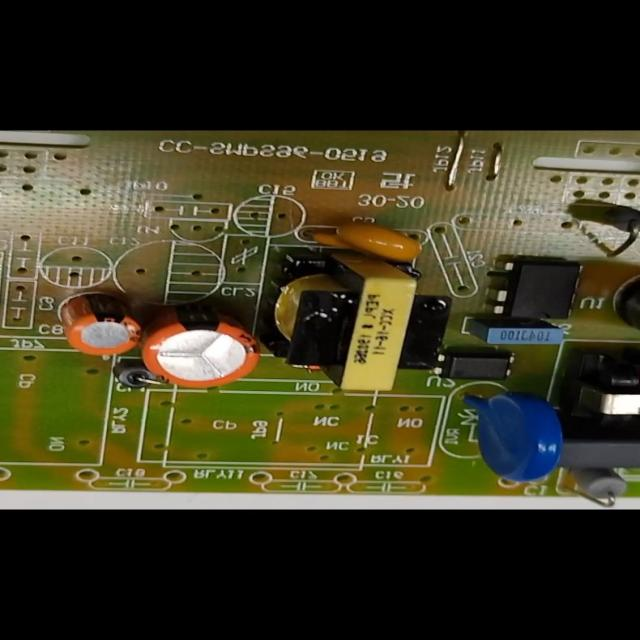Cap1: (143, 315, 255, 389)
Cap2: (53, 296, 141, 354)
MOSFET: (495, 262, 580, 318)
Mov: (466, 392, 560, 482)
Resistor: (566, 471, 624, 508)
Transformer: (271, 256, 436, 392), (589, 361, 639, 438)
